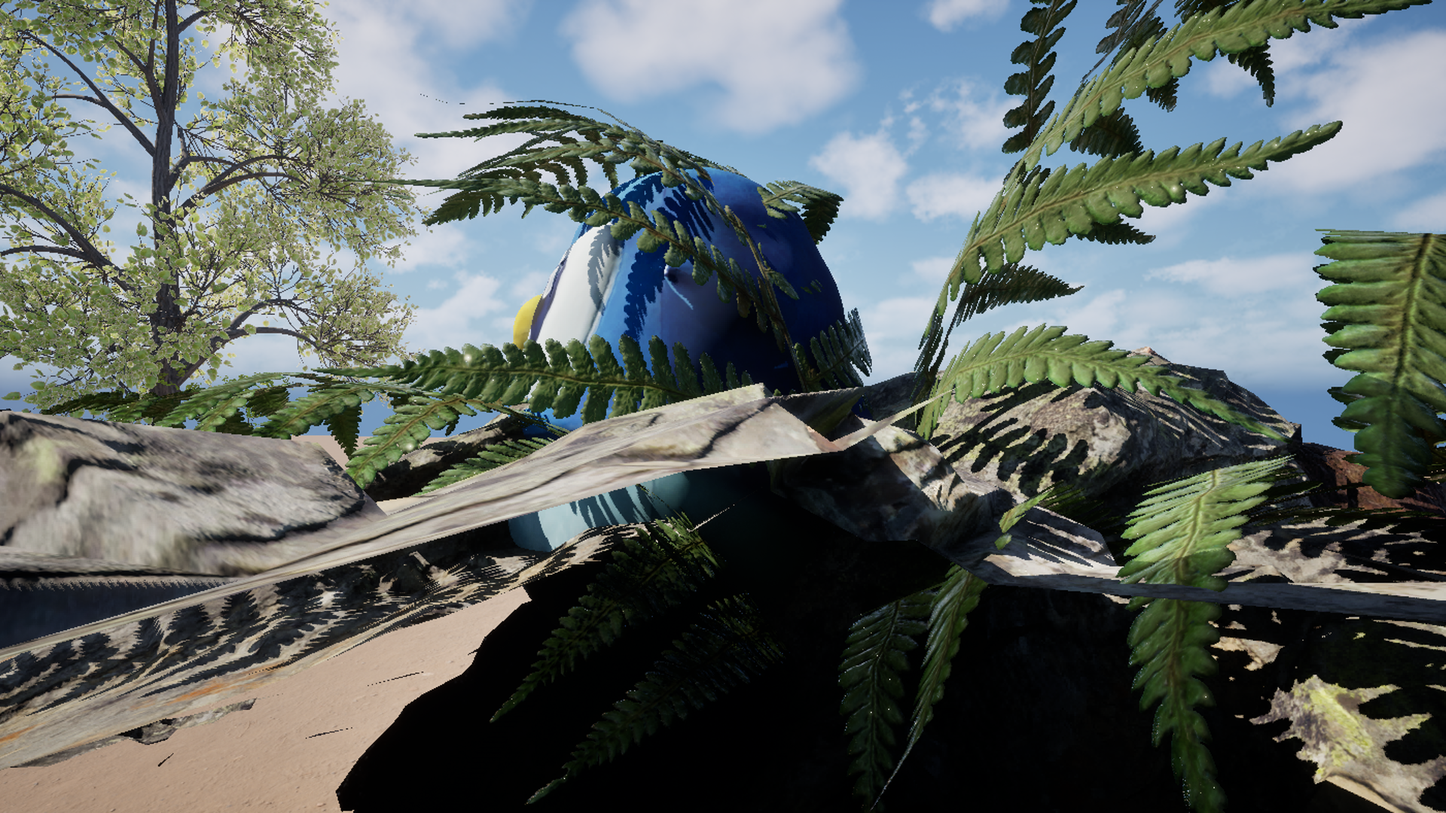Piplup: (223, 0, 1090, 813)
